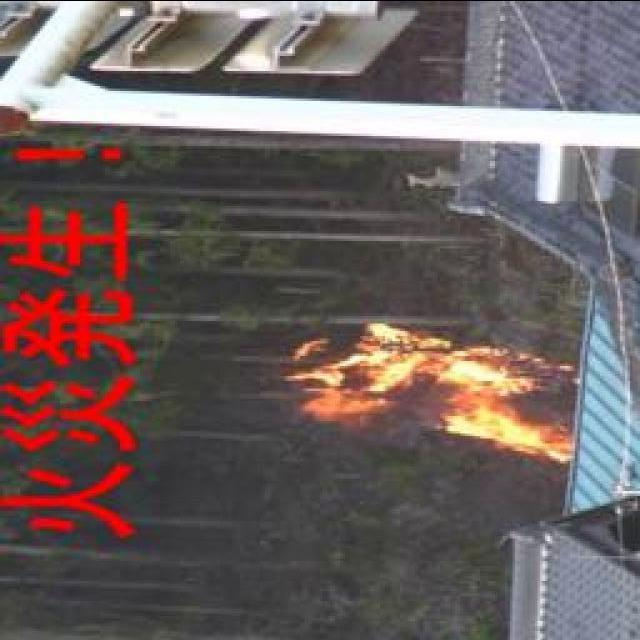Fire: (298, 313, 580, 465)
